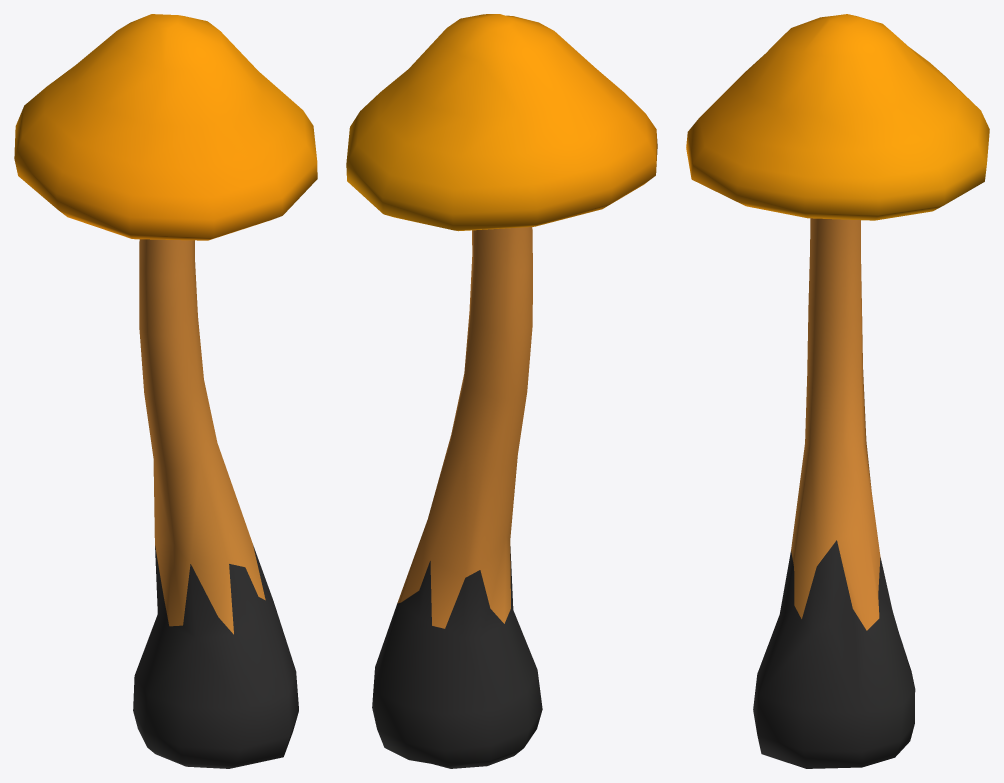
File: mushroom 18.fbx
3 renders of one model, left to right at view 1: azimuth 30°, elevation 25°; view 2: azimuth 150°, elevation 25°; view 3: azimuth 270°, elevation 25°, orthographic. The views are drawn at different scales.
Parts seen in each view (by area): view 1: Mushroom_0001_0018; view 2: Mushroom_0001_0018; view 3: Mushroom_0001_0018.
Boxes of the visible parts, box(x1,y1,x2,y2) form: Mushroom_0001_0018: box(14, 14, 317, 768); Mushroom_0001_0018: box(346, 14, 657, 768); Mushroom_0001_0018: box(686, 14, 989, 768).
Size of the model in its own units: 7.58 by 20.24 by 7.89.
Materials: 1 (1 with a texture image).
